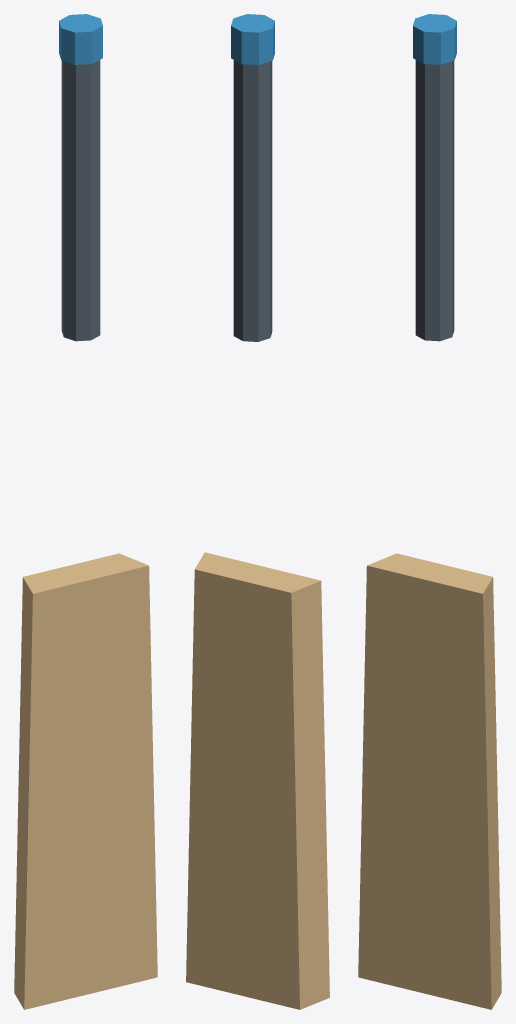
File: willow-bat.glb
The picture shows the model from 3 angles, left to right: view 1: azimuth 30°, elevation 25°; view 2: azimuth 150°, elevation 25°; view 3: azimuth 330°, elevation 25°; orthographic projection.
Parts seen in each view (by area): view 1: Bat | broad willow blade, Bat | handle, Bat | grip cap; view 2: Bat | broad willow blade, Bat | handle, Bat | grip cap; view 3: Bat | broad willow blade, Bat | handle, Bat | grip cap.
Boxes of the visible parts, left/top/right/bottom form: Bat | broad willow blade: left=14, top=553, right=157, bottom=1009; Bat | handle: left=61, top=60, right=100, bottom=341; Bat | grip cap: left=59, top=14, right=102, bottom=64; Bat | broad willow blade: left=186, top=552, right=329, bottom=1009; Bat | handle: left=233, top=60, right=272, bottom=341; Bat | grip cap: left=231, top=14, right=274, bottom=64; Bat | broad willow blade: left=358, top=553, right=501, bottom=1009; Bat | handle: left=415, top=60, right=454, bottom=341; Bat | grip cap: left=413, top=14, right=456, bottom=64.
Bounding box in the file's own units: 0.108 × 0.7445 × 0.032.
